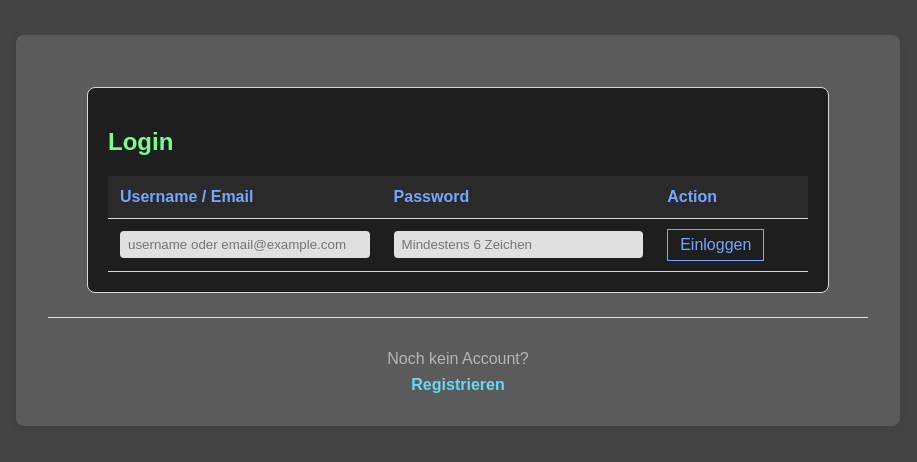
Test: Login page › shows error message on failed login
In the field with placeholder "username oder email@example.com": (245, 245) x1=120 y1=231 x2=370 y2=258, type "admin"
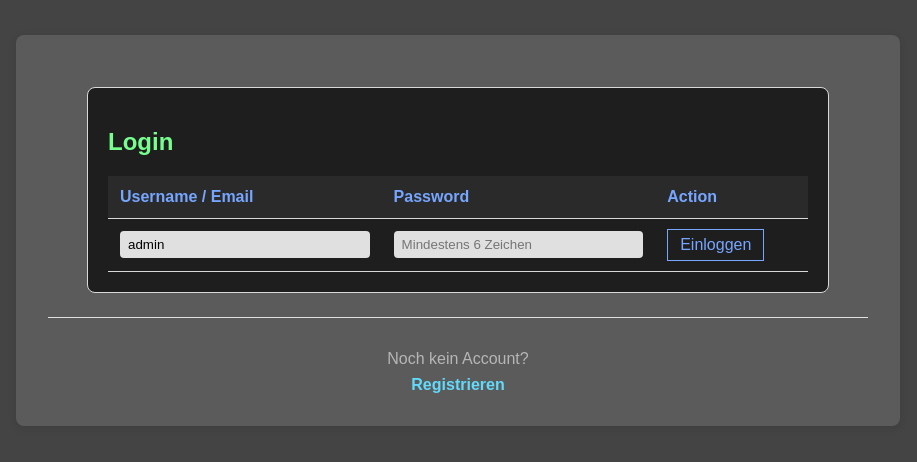
In the password field with placeholder "Mindestens 6 Zeichen": (518, 245) x1=394 y1=231 x2=643 y2=258, type "wrongpass"
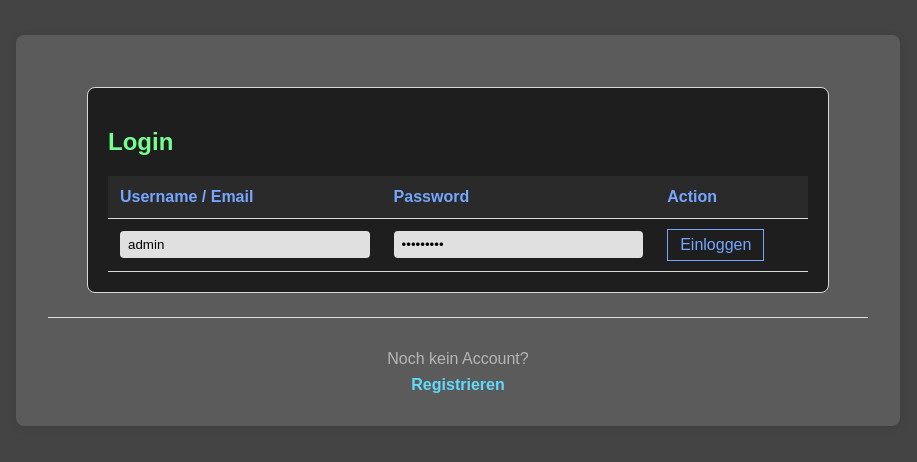
Click the button "Einloggen": (716, 245) x1=667 y1=229 x2=764 y2=261
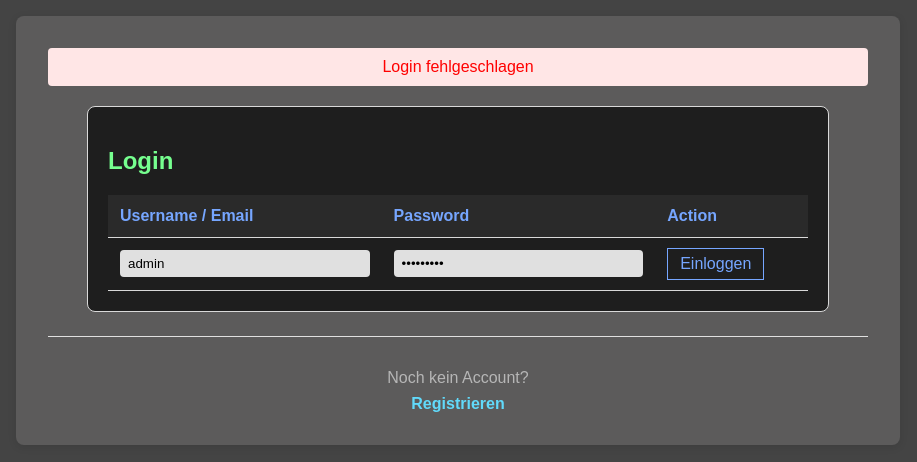
Result: the text "Login fehlgeschlagen" is shown at x1=48 y1=48 x2=868 y2=86
